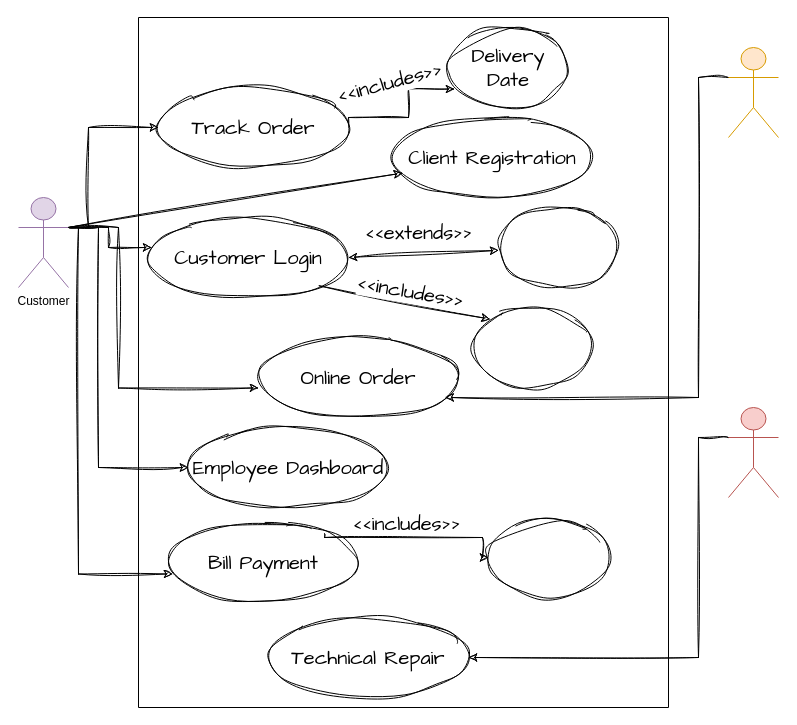
Some shapes in this 797 by 725 pixel diagram are drawn without their labels. The centre of each missing label's shape, as x and y in pixels:
"Admin" goes at point (753, 452).
"Complete Profile" goes at point (532, 347).
"Employee" goes at point (753, 92).
"Invalid Credentials" goes at point (558, 247).
"Invoice" goes at point (548, 557).
